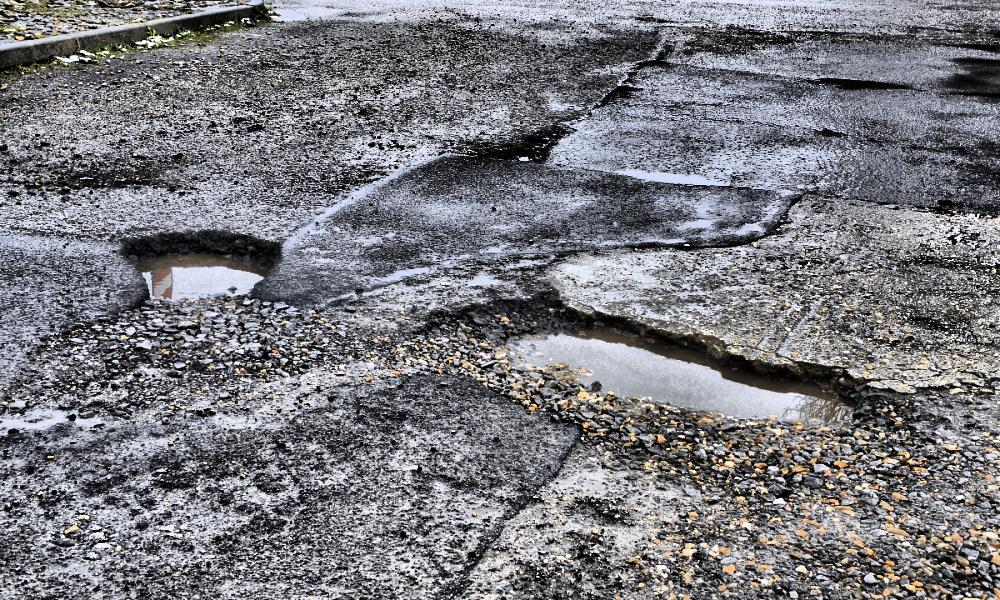pothole: (464, 315, 870, 432), (120, 224, 280, 297)
